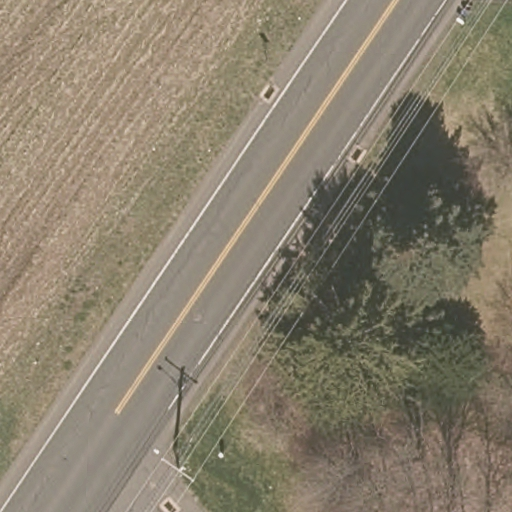DT: (162, 454, 195, 482)
